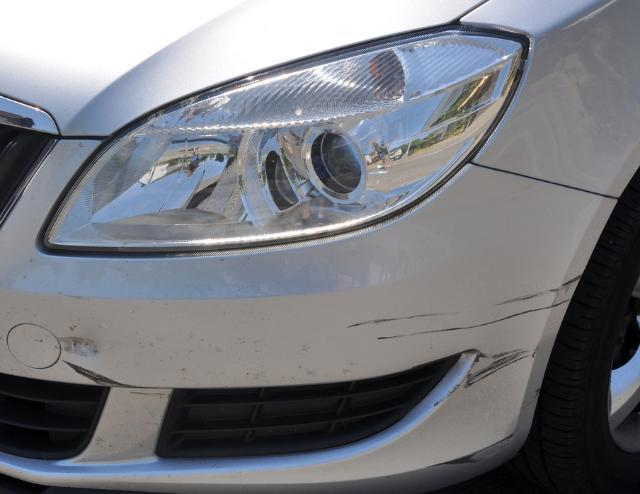Bumper: (339, 276, 575, 403)
